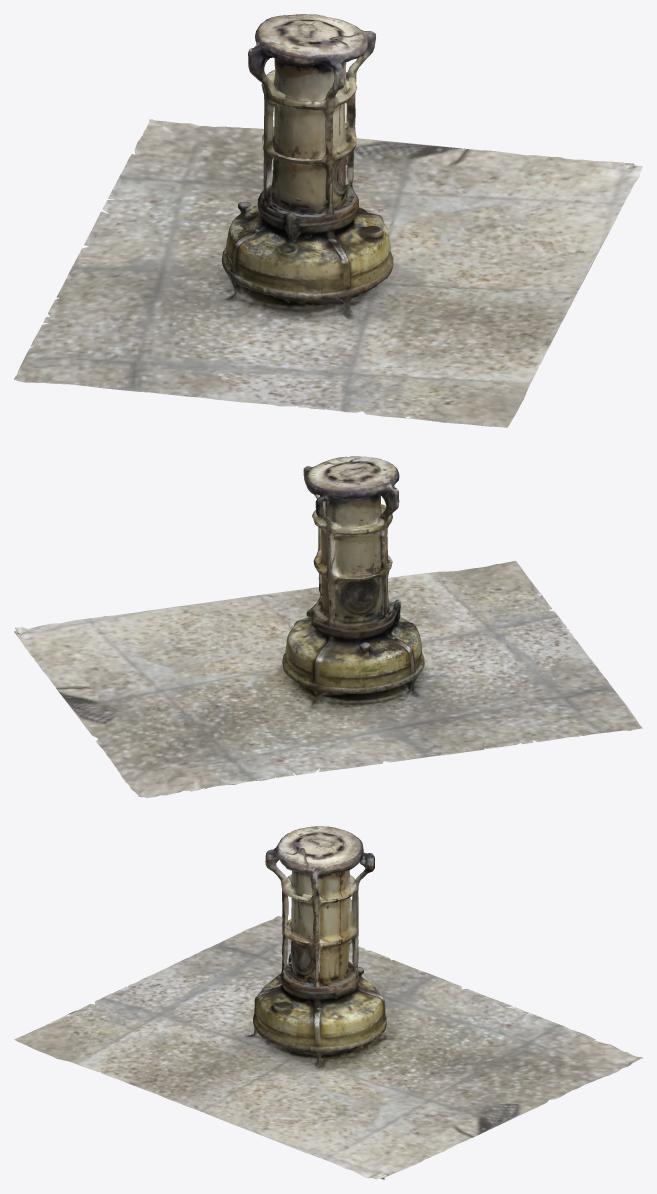
The model's file is zopa.glb.
The picture shows the model from 3 angles, top to bottom: view 1: azimuth 30°, elevation 25°; view 2: azimuth 150°, elevation 25°; view 3: azimuth 270°, elevation 25°; orthographic projection. The views are drawn at different scales.
Visible parts, largest first — view 1: Asset3DLoader.sceneRoot; view 2: Asset3DLoader.sceneRoot; view 3: Asset3DLoader.sceneRoot.
Boxes of the visible parts, x1,y1,x2,y2 form: Asset3DLoader.sceneRoot: (14, 14, 642, 427); Asset3DLoader.sceneRoot: (14, 456, 642, 797); Asset3DLoader.sceneRoot: (14, 826, 642, 1179).
Bounding box in the file's own units: 1.48 × 0.5304 × 1.5.
1 material, 1 textured.
